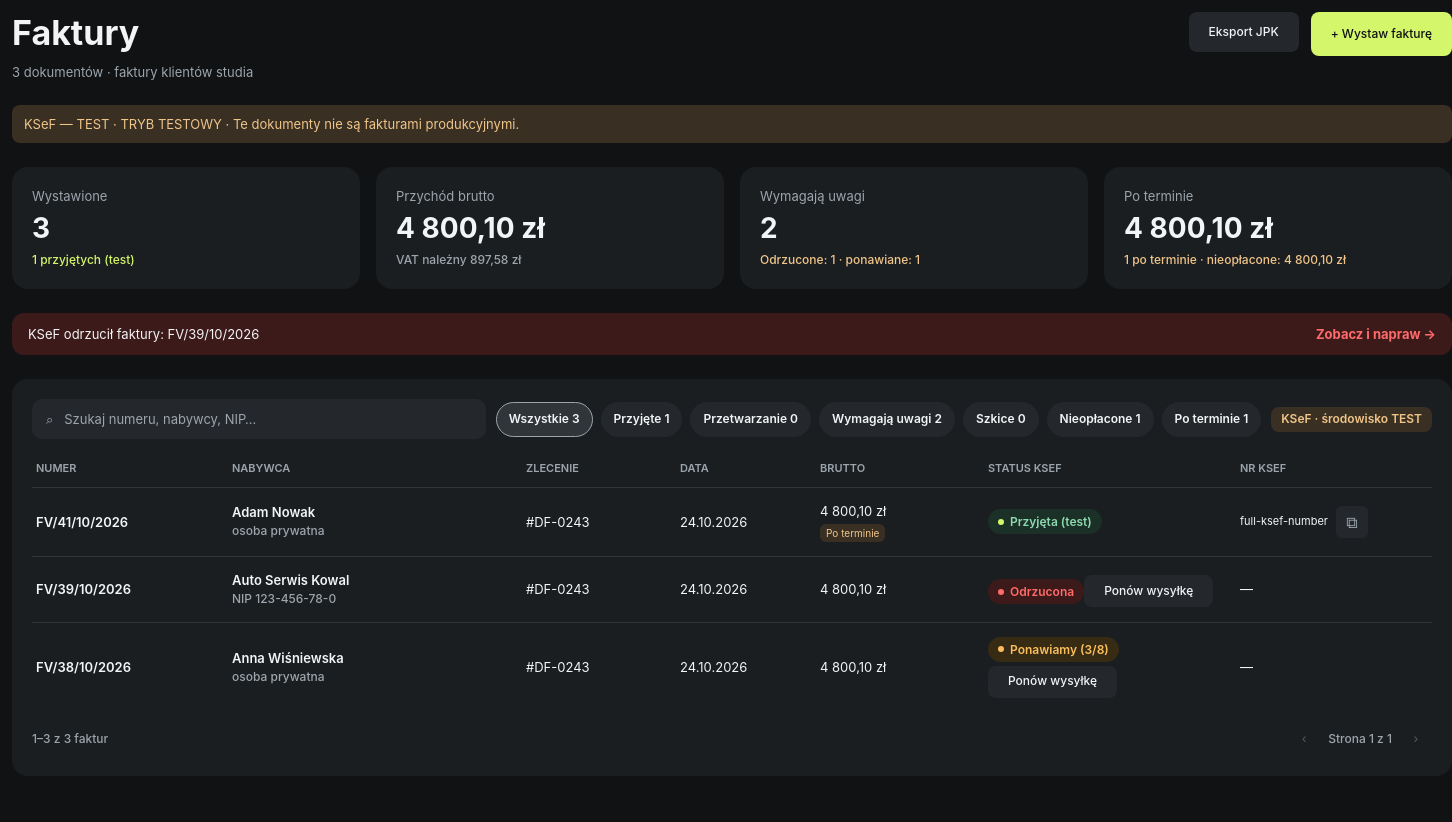
Scenario: queues retry from the invoice list and displays the outcome in the same row
Click the button "Ponów wysyłkę" next to "Odrzucona" at (1149, 591), box x1=1084 y1=575 x2=1213 y2=607
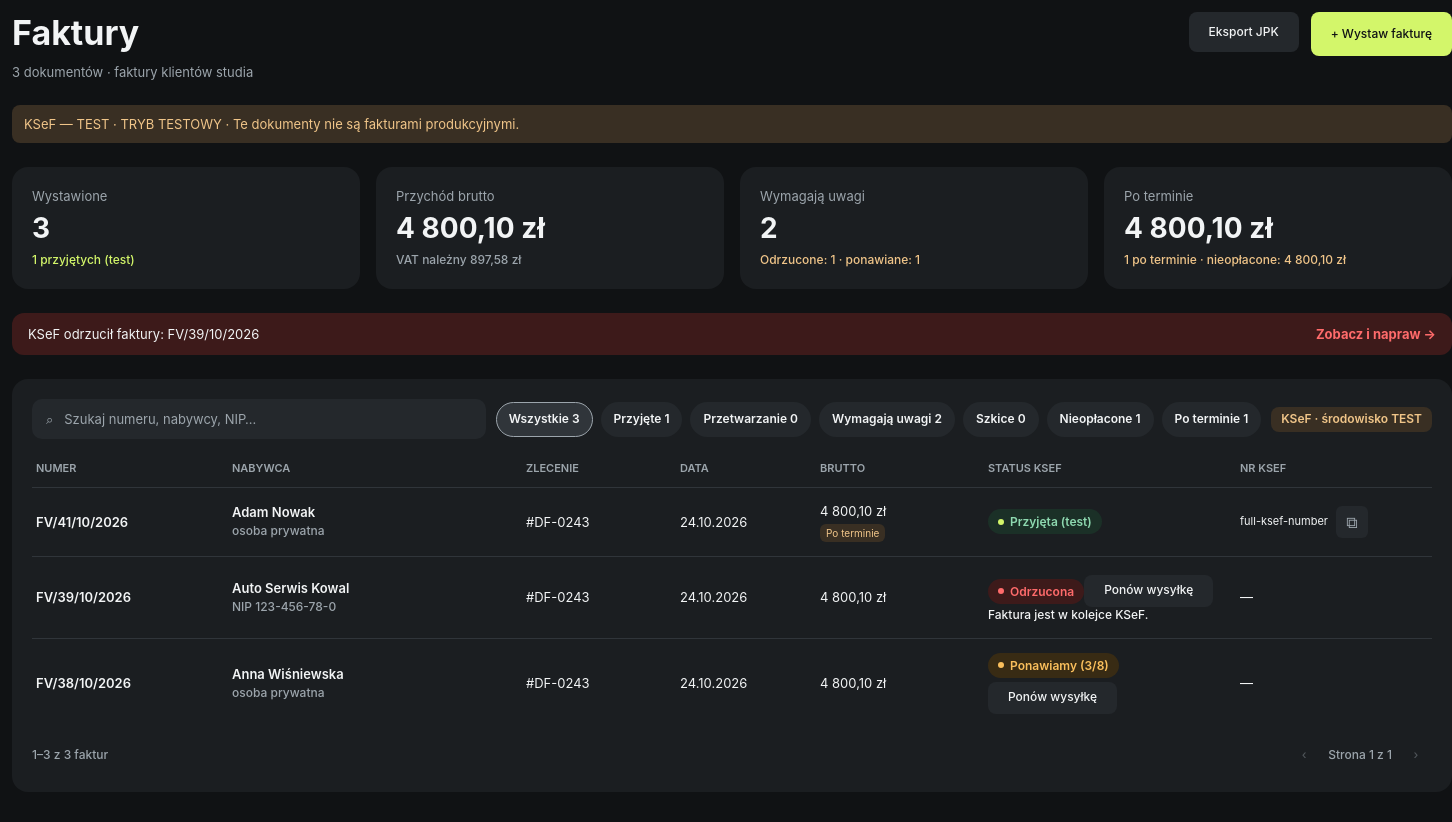
Result: the message shows "Faktura jest w kolejce KSeF" at x1=988 y1=607 x2=1148 y2=622
